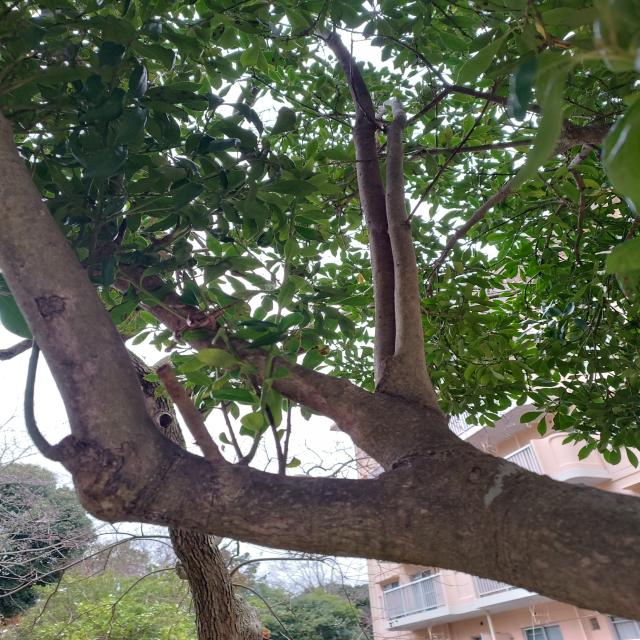Branch: (0, 113, 409, 561), (388, 447, 640, 620), (334, 389, 457, 470)
Twig: (115, 261, 363, 418), (320, 34, 395, 383), (377, 96, 440, 402)
